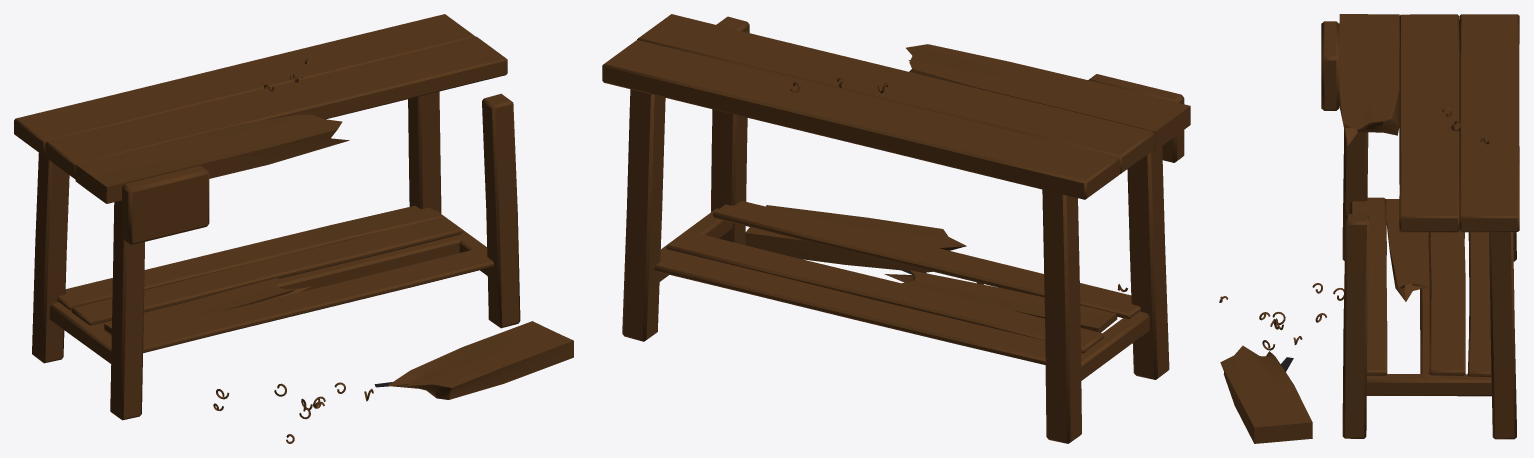
The model's file is werkbank_kaputt.glb.
The picture shows the model from 3 angles, left to right: view 1: azimuth 30°, elevation 25°; view 2: azimuth 150°, elevation 25°; view 3: azimuth 270°, elevation 25°; orthographic projection. The views are drawn at different scales.
Visible parts, largest first — view 1: werkbank_kaputt; view 2: werkbank_kaputt; view 3: werkbank_kaputt.
Boxes of the visible parts, <box> form: werkbank_kaputt: <box>14,14,573,443</box>; werkbank_kaputt: <box>602,14,1190,443</box>; werkbank_kaputt: <box>1219,14,1519,443</box>.
Size of the model in its own units: 1.6 by 0.8839 by 1.
